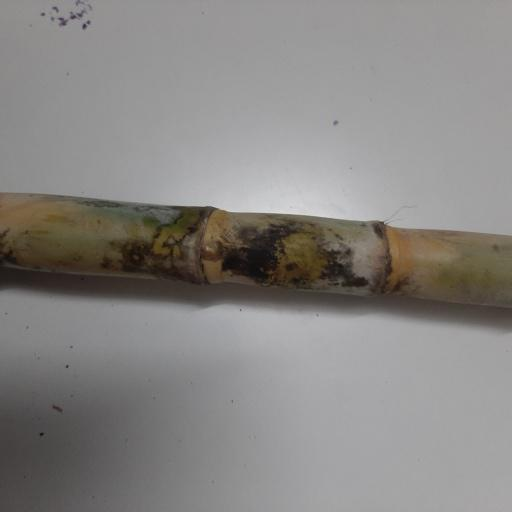Bud: (201, 243, 223, 260)
